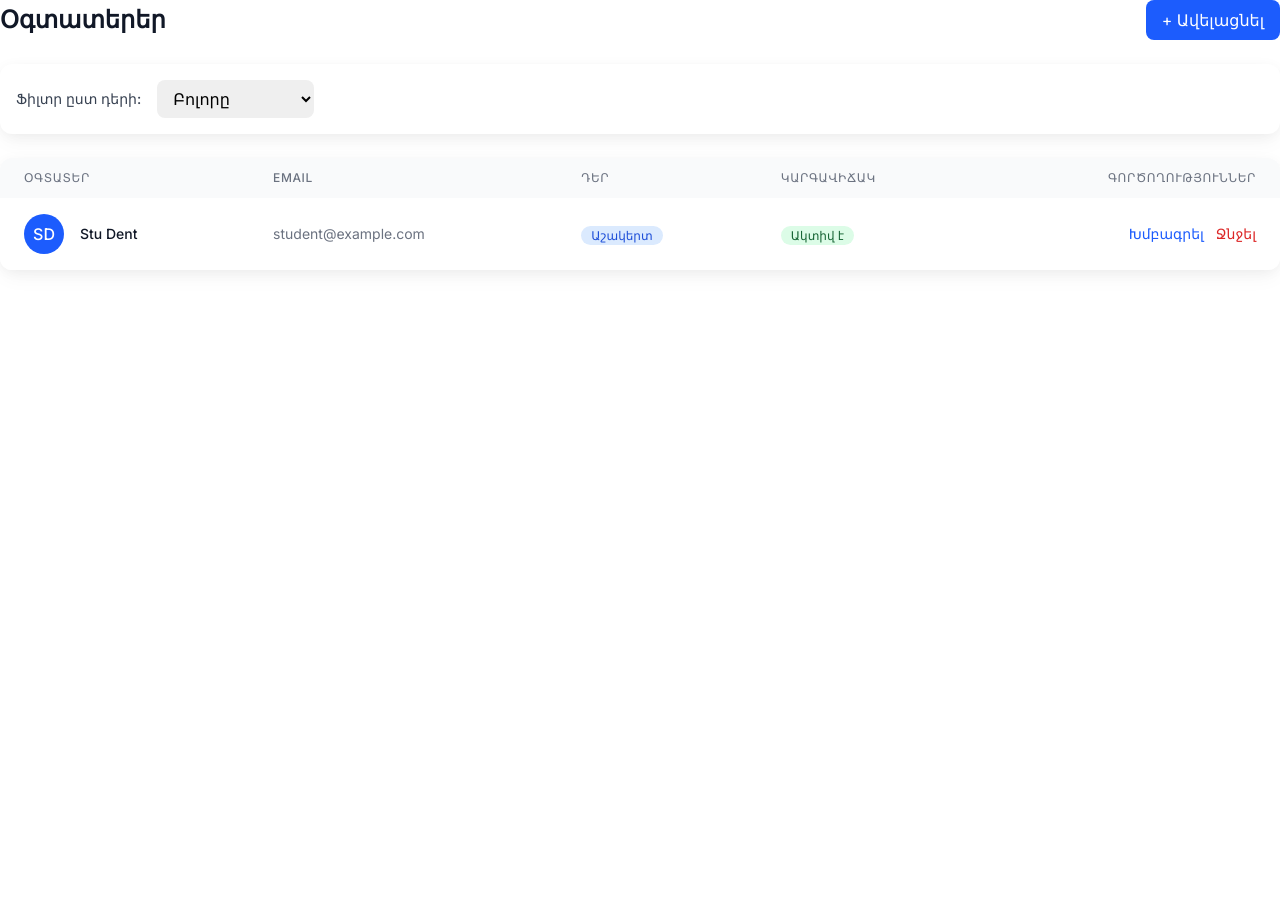
Test: UsersPage › updates profile, status and role
The image size is (1280, 900).
Expected: the text "student@example.com" is shown, left=249, top=198, right=557, bottom=270
Click the button "Խմբագրել": [1166, 234] box left=1129, top=224, right=1204, bottom=244
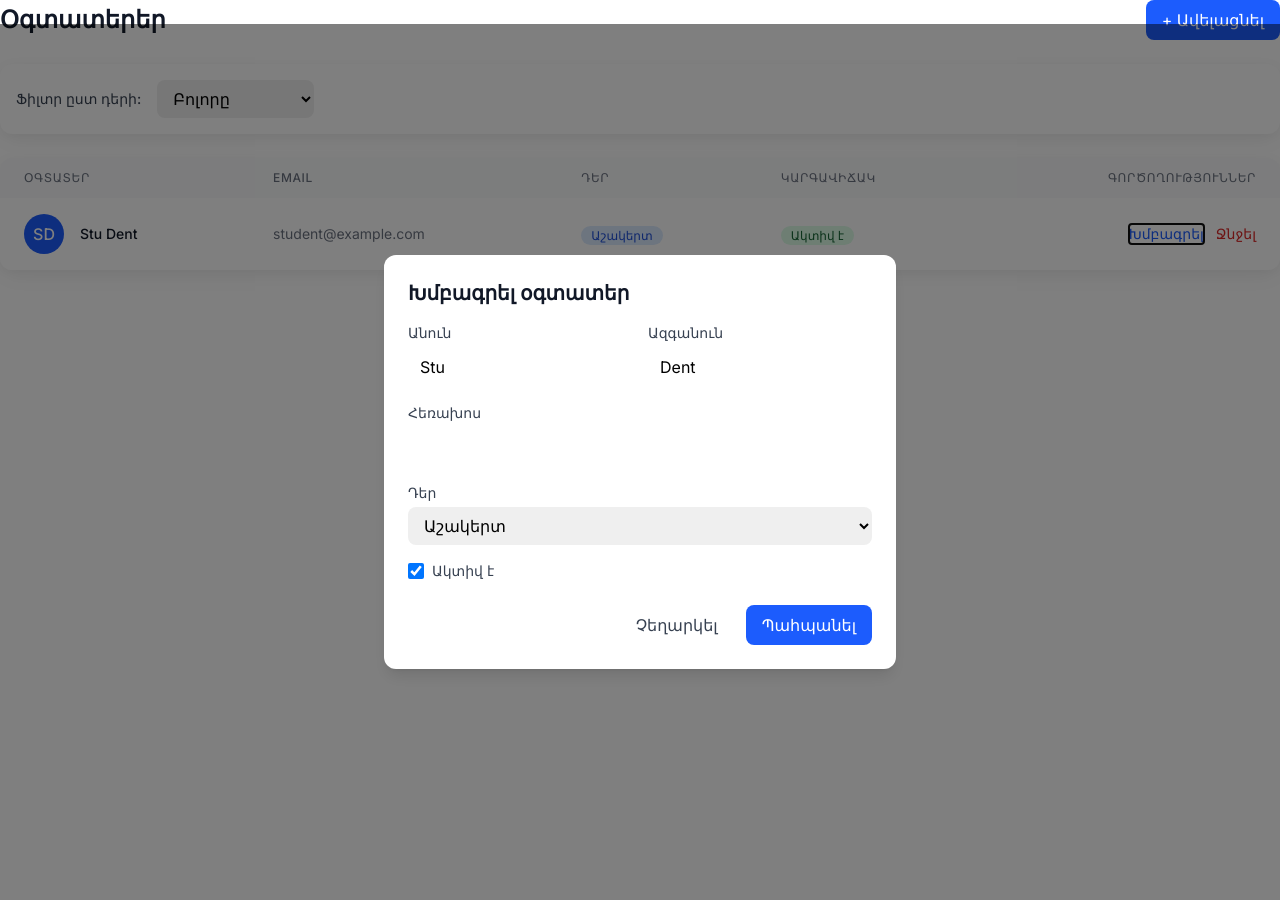
Select "Ուսուցիչ" in the dropdown labelled "Դեր": [640, 526] box left=408, top=507, right=872, bottom=545
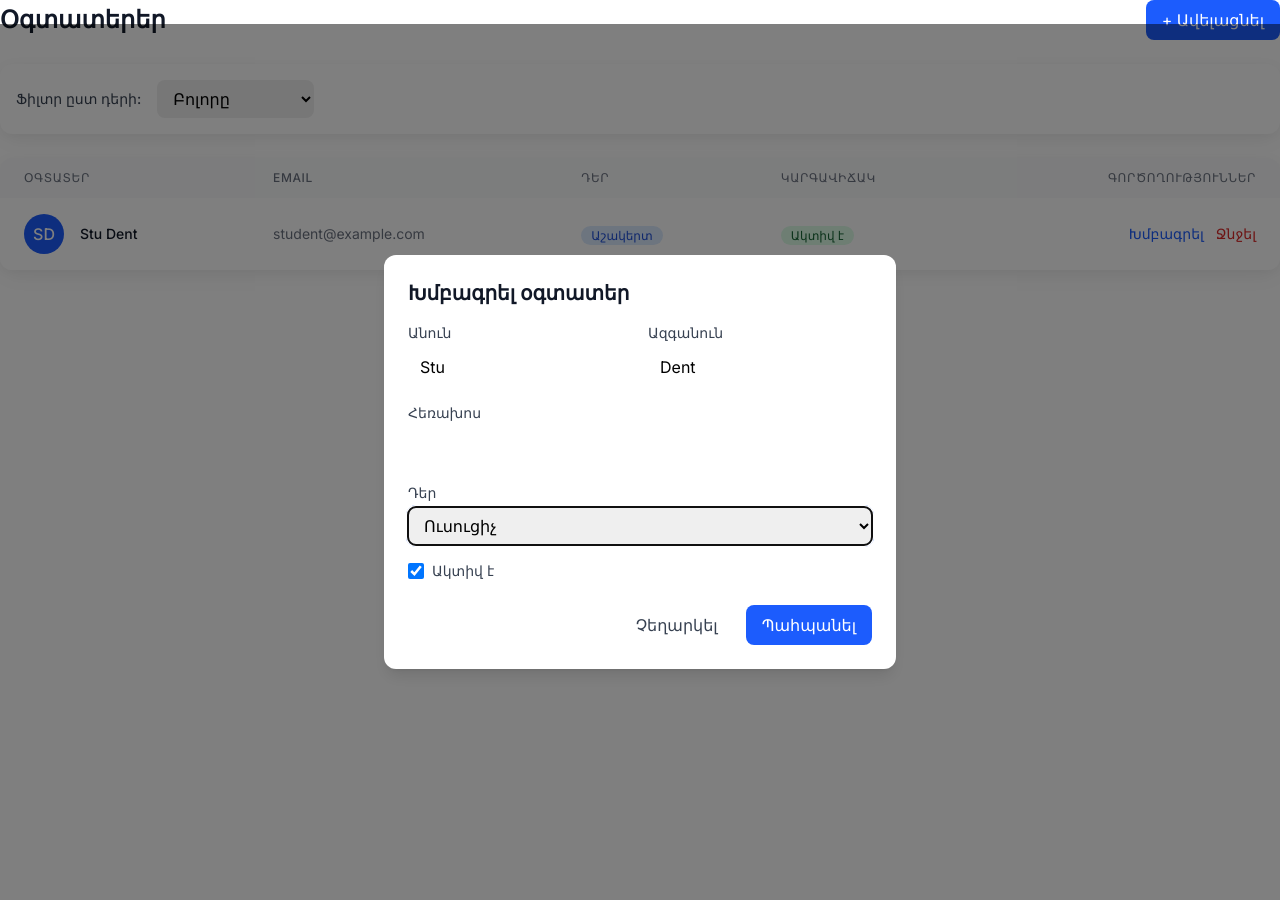
Click the checkbox labelled "Ակտիվ է": [416, 571] box left=408, top=563, right=424, bottom=579
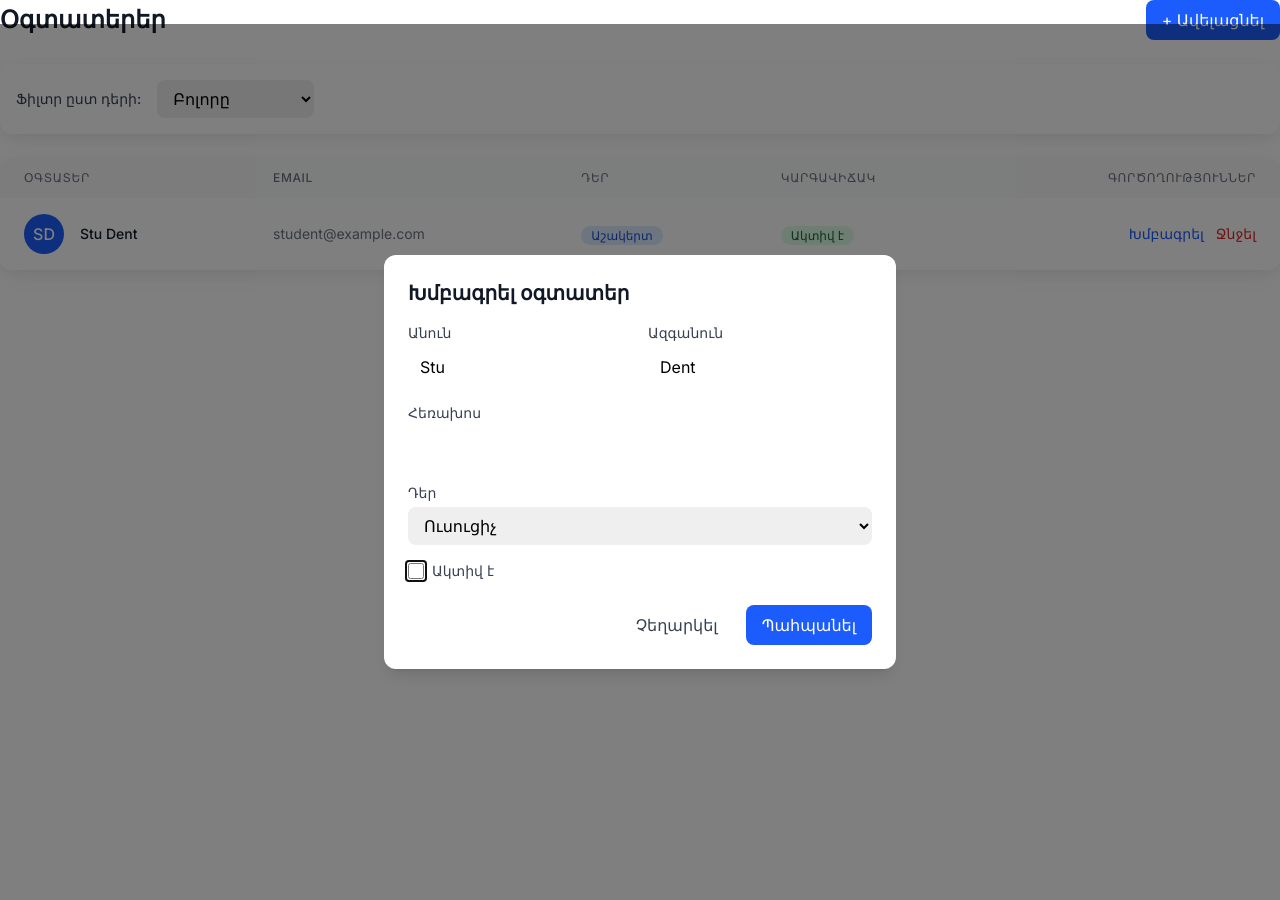
Click the button "Պահպանել": [809, 625] box left=746, top=605, right=872, bottom=645
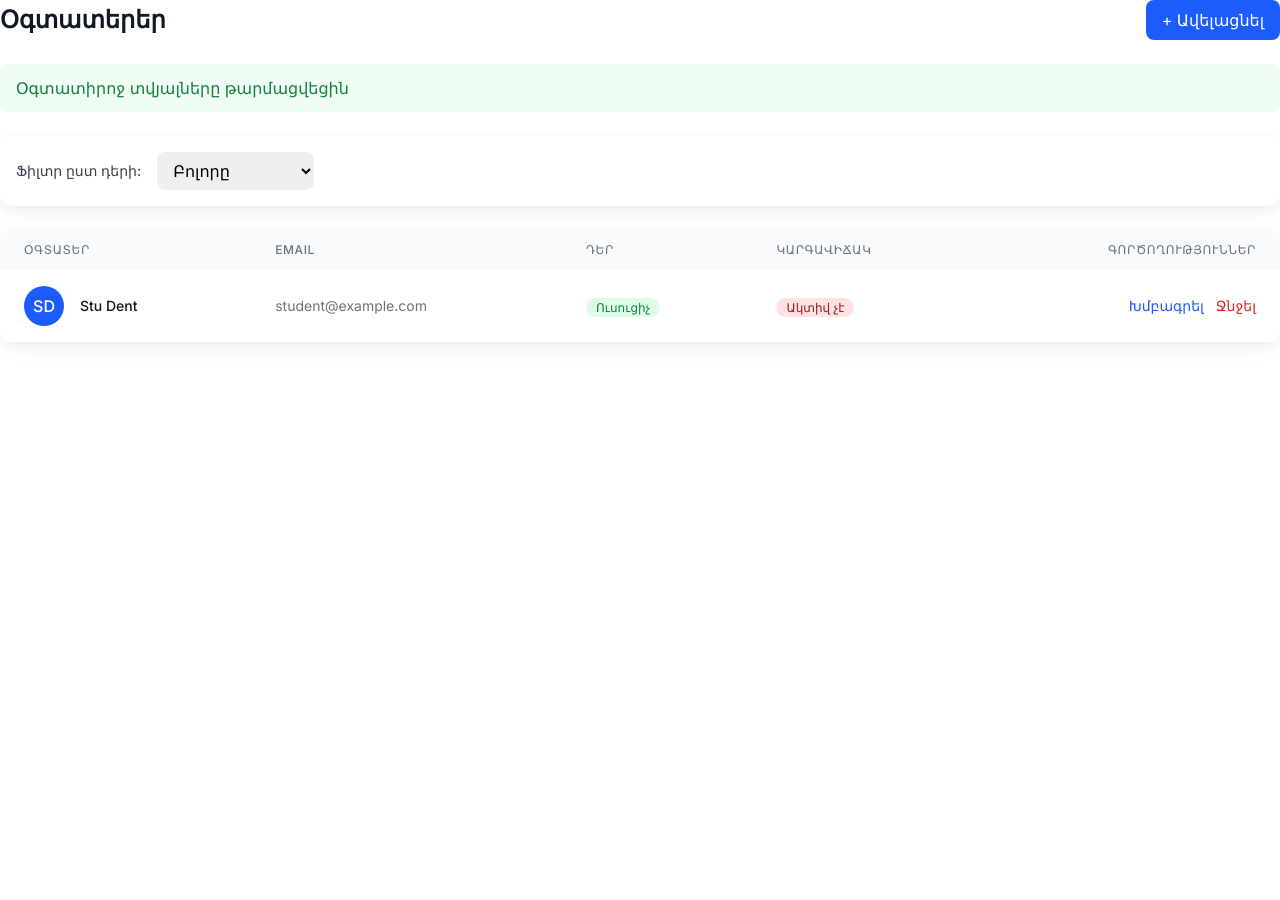
Now the text "Օգտատիրոջ տվյալները թարմացվեցին" is shown, box left=0, top=64, right=1279, bottom=112
Now the text "Ակտիվ չէ" is shown, box left=776, top=298, right=854, bottom=317
